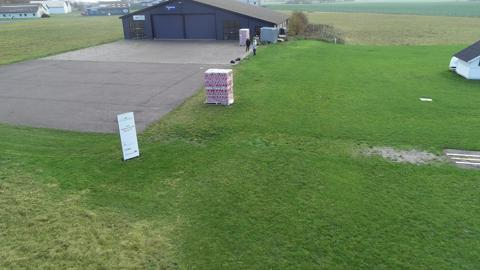RockwoolPallet: (239, 28, 251, 47)
